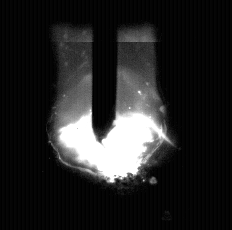arame: (93, 0, 118, 143)
poca: (48, 0, 166, 230)
